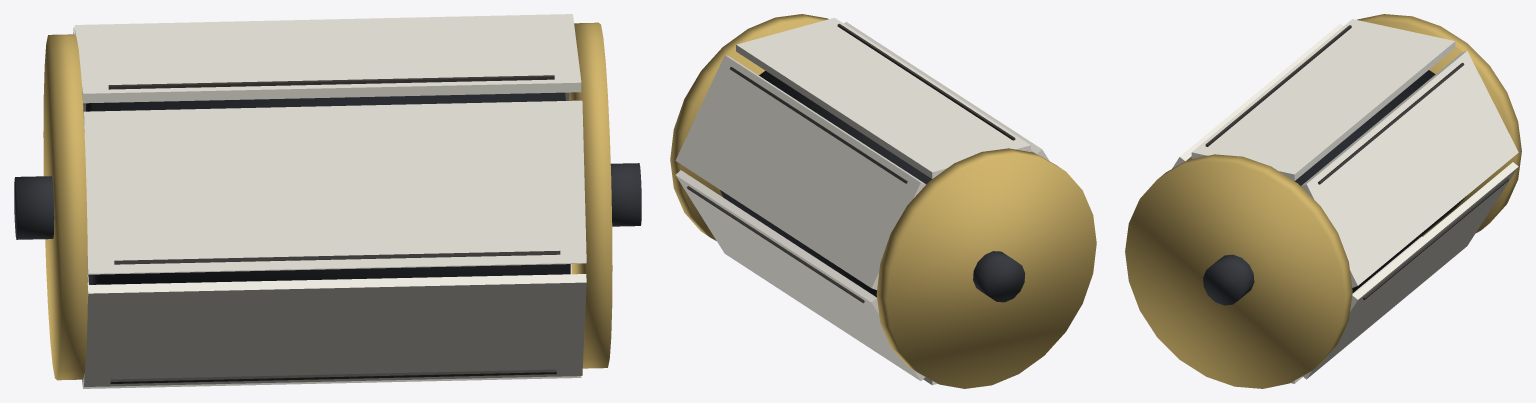
Rendered from chart.glb.
3 renders of one model, left to right at view 1: azimuth 30°, elevation 25°; view 2: azimuth 150°, elevation 25°; view 3: azimuth 270°, elevation 25°, orthographic. The views are drawn at different scales.
Visible parts, largest first — view 1: dnsm_chart_page_5, dnsm_chart_page_0, dnsm_chart_page_4, dnsm_drum_cap_0, dnsm_drum_cap_1, dnsm_drum_core, dnsm_drum_hub_0, dnsm_chart_rule_0, dnsm_chart_rule_4, dnsm_chart_rule_5, dnsm_drum_hub_1, dnsm_chart_page_1; view 2: dnsm_drum_cap_0, dnsm_chart_page_3, dnsm_chart_page_4, dnsm_chart_page_2, dnsm_drum_cap_1, dnsm_drum_core, dnsm_drum_hub_0, dnsm_chart_page_5, dnsm_chart_rule_4, dnsm_chart_rule_3, dnsm_chart_rule_2; view 3: dnsm_drum_cap_1, dnsm_chart_page_3, dnsm_chart_page_4, dnsm_chart_page_2, dnsm_drum_cap_0, dnsm_drum_hub_1, dnsm_drum_core, dnsm_chart_page_5, dnsm_chart_rule_4, dnsm_chart_rule_3, dnsm_chart_rule_2.
Part boxes in pixels (box(x1,y1,x2,y2)): dnsm_chart_page_5: box(83, 100, 586, 274); dnsm_chart_page_0: box(83, 274, 586, 386); dnsm_chart_page_4: box(74, 14, 581, 103); dnsm_drum_cap_0: box(43, 34, 87, 380); dnsm_drum_cap_1: box(569, 22, 612, 368); dnsm_drum_core: box(86, 92, 570, 284); dnsm_drum_hub_0: box(14, 176, 54, 239); dnsm_chart_rule_0: box(110, 369, 556, 383); dnsm_chart_rule_4: box(108, 75, 554, 89); dnsm_chart_rule_5: box(114, 250, 560, 264); dnsm_drum_hub_1: box(610, 163, 641, 226); dnsm_chart_page_1: box(82, 376, 581, 388); dnsm_drum_cap_0: box(876, 148, 1096, 388); dnsm_chart_page_3: box(675, 55, 925, 289); dnsm_chart_page_4: box(736, 17, 1030, 178); dnsm_chart_page_2: box(675, 170, 925, 380); dnsm_drum_cap_1: box(670, 14, 828, 240); dnsm_drum_core: box(720, 71, 931, 297); dnsm_drum_hub_0: box(973, 251, 1025, 302); dnsm_chart_page_5: box(844, 22, 1049, 161); dnsm_chart_rule_4: box(837, 23, 1015, 140); dnsm_chart_rule_3: box(730, 67, 907, 183); dnsm_chart_rule_2: box(687, 186, 864, 303); dnsm_drum_cap_1: box(1125, 154, 1352, 388); dnsm_chart_page_3: box(1301, 51, 1518, 287); dnsm_chart_page_4: box(1191, 19, 1455, 180); dnsm_chart_page_2: box(1302, 162, 1518, 379); dnsm_drum_cap_0: box(1357, 14, 1521, 236); dnsm_drum_hub_1: box(1203, 254, 1254, 305); dnsm_drum_core: box(1295, 70, 1466, 293); dnsm_chart_page_5: box(1172, 23, 1343, 168); dnsm_chart_rule_4: box(1205, 25, 1351, 146); dnsm_chart_rule_3: box(1318, 63, 1464, 184); dnsm_chart_rule_2: box(1363, 178, 1508, 300).
Bounding box in the file's own units: 0.1927 × 0.103 × 0.1661.
